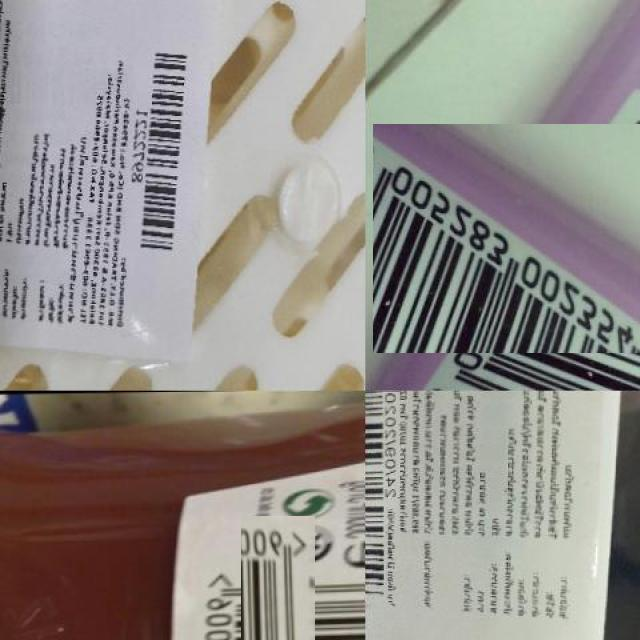Barcode: (392, 105, 640, 372), (128, 33, 192, 272), (216, 541, 341, 640), (365, 390, 400, 610)
